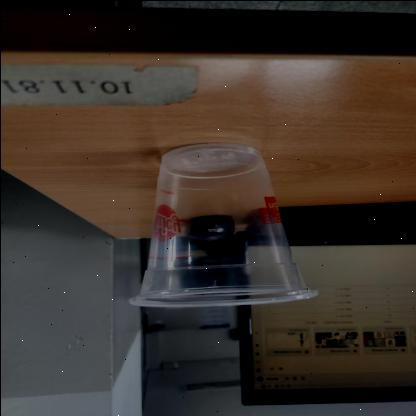Others: (123, 142, 319, 308)
